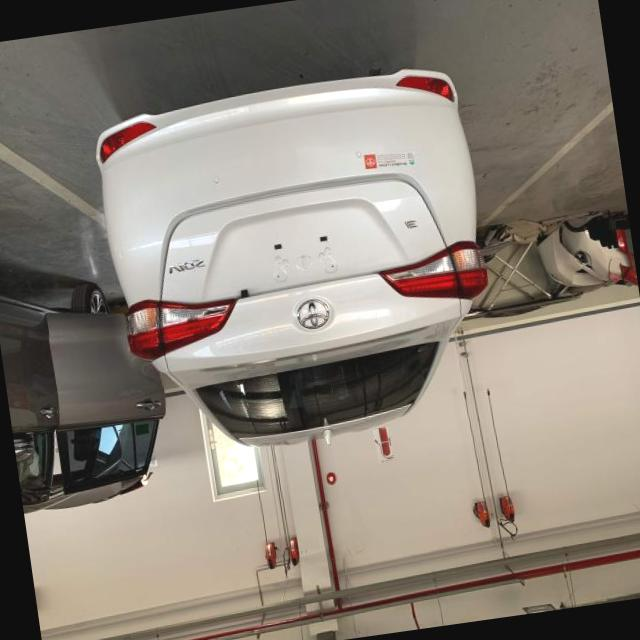ToyotaVios: (88, 60, 510, 472)
